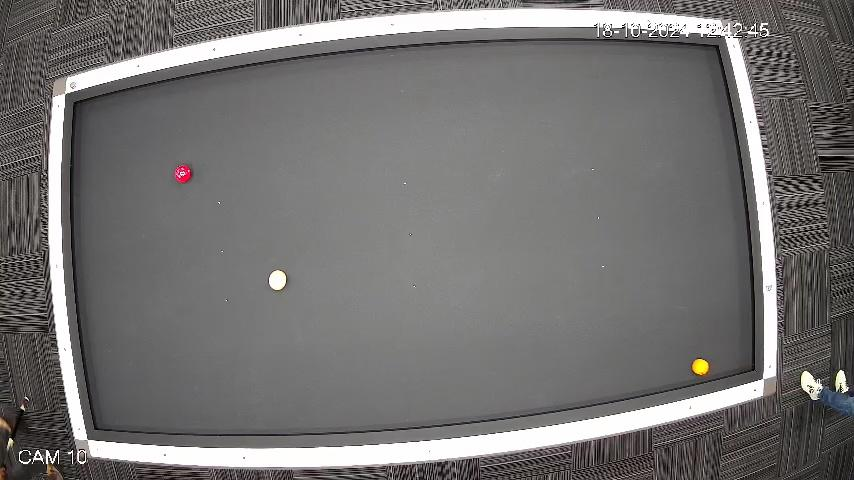Red: (174, 164, 194, 185)
White: (268, 270, 288, 292)
Yellow: (690, 358, 710, 378)
